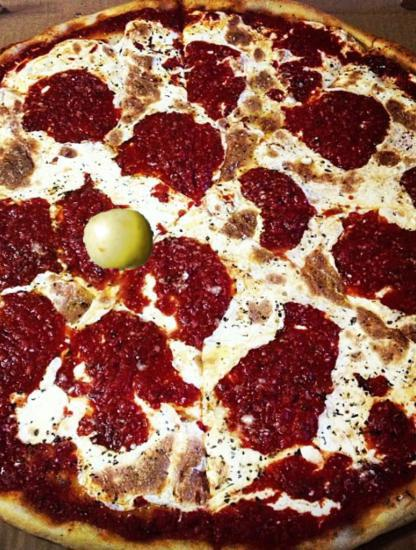Apple: (83, 204, 154, 275)
